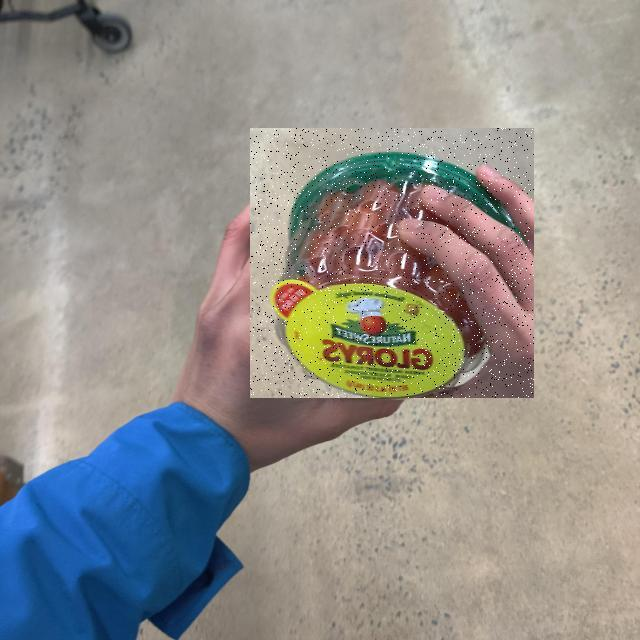tomato: (0, 199, 517, 597)
